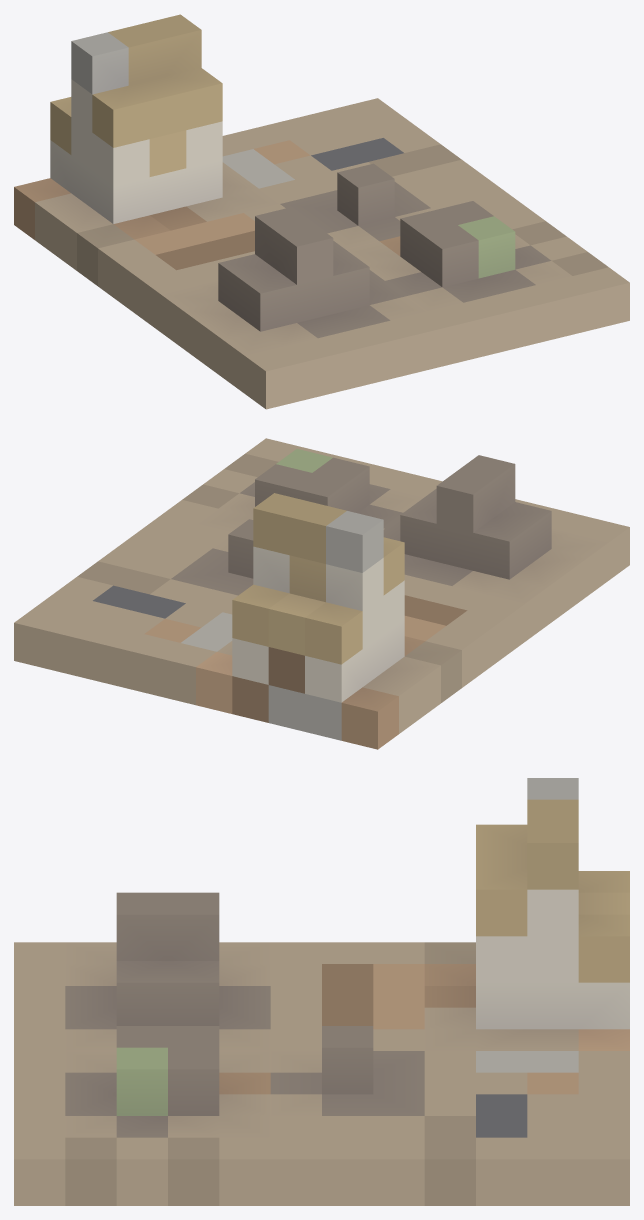
The model's file is charcoal_burner.lite.glb.
The picture shows the model from 3 angles, top to bottom: view 1: azimuth 30°, elevation 25°; view 2: azimuth 150°, elevation 25°; view 3: azimuth 270°, elevation 25°; orthographic projection. The views are drawn at different scales.
Parts seen in each view (by area): view 1: charcoal_burner; view 2: charcoal_burner; view 3: charcoal_burner.
Boxes of the visible parts, <box> form: charcoal_burner: <box>14,14,629,409</box>; charcoal_burner: <box>14,438,629,749</box>; charcoal_burner: <box>14,778,629,1205</box>.
Size of the model in its own units: 5 by 2.5 by 6.
